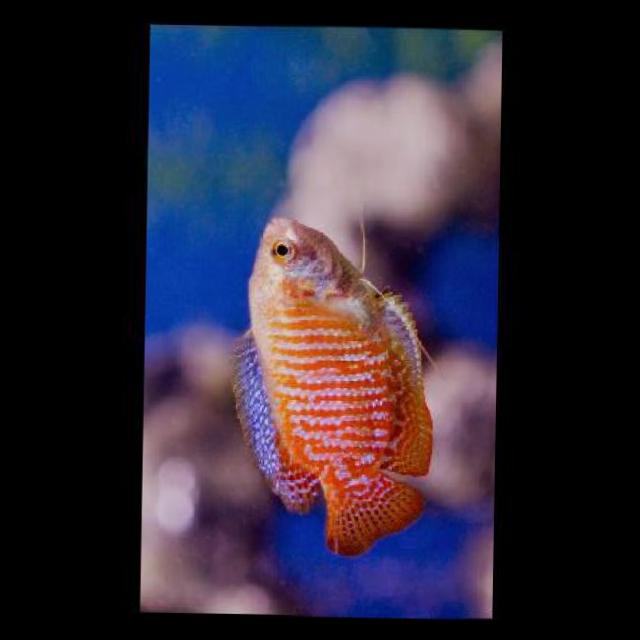Gourami: (224, 213, 442, 550)
